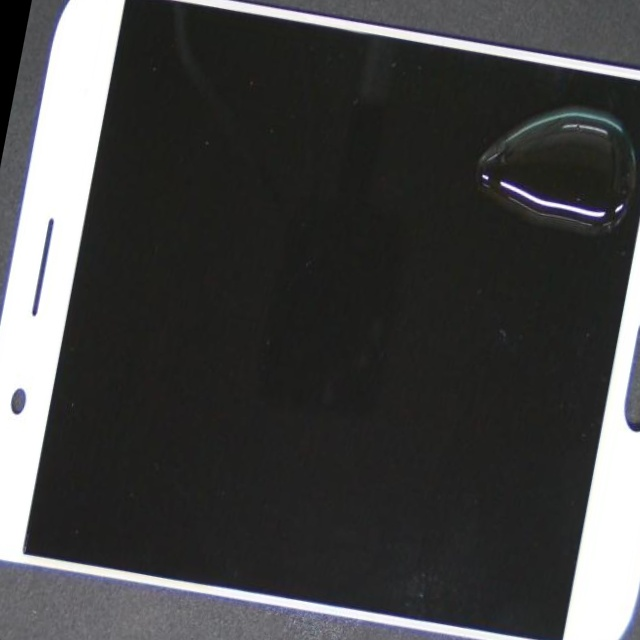oil: (301, 87, 640, 322)
